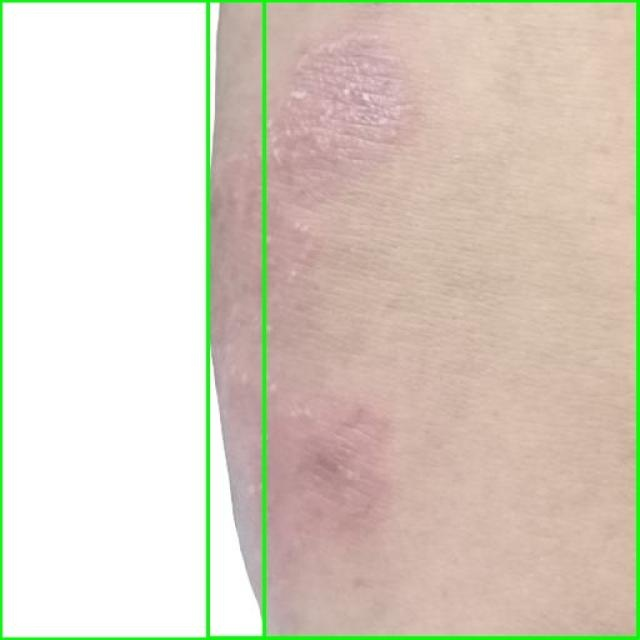Eczema: (209, 0, 639, 639), (0, 0, 264, 639)
